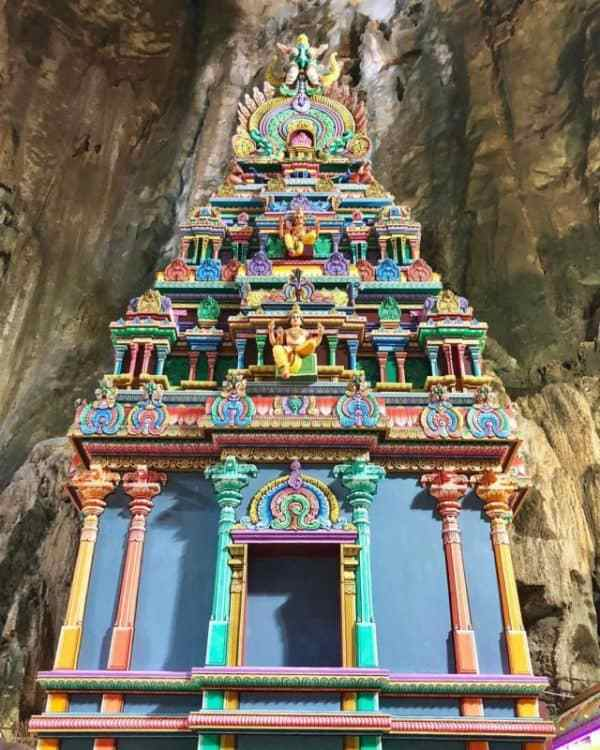Hindu Temple: (73, 37, 536, 715)
